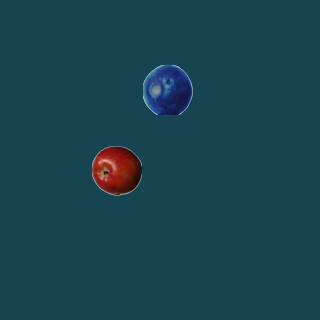Apple Braeburn: (91, 145, 141, 195)
Huckleberry: (142, 64, 192, 114)
